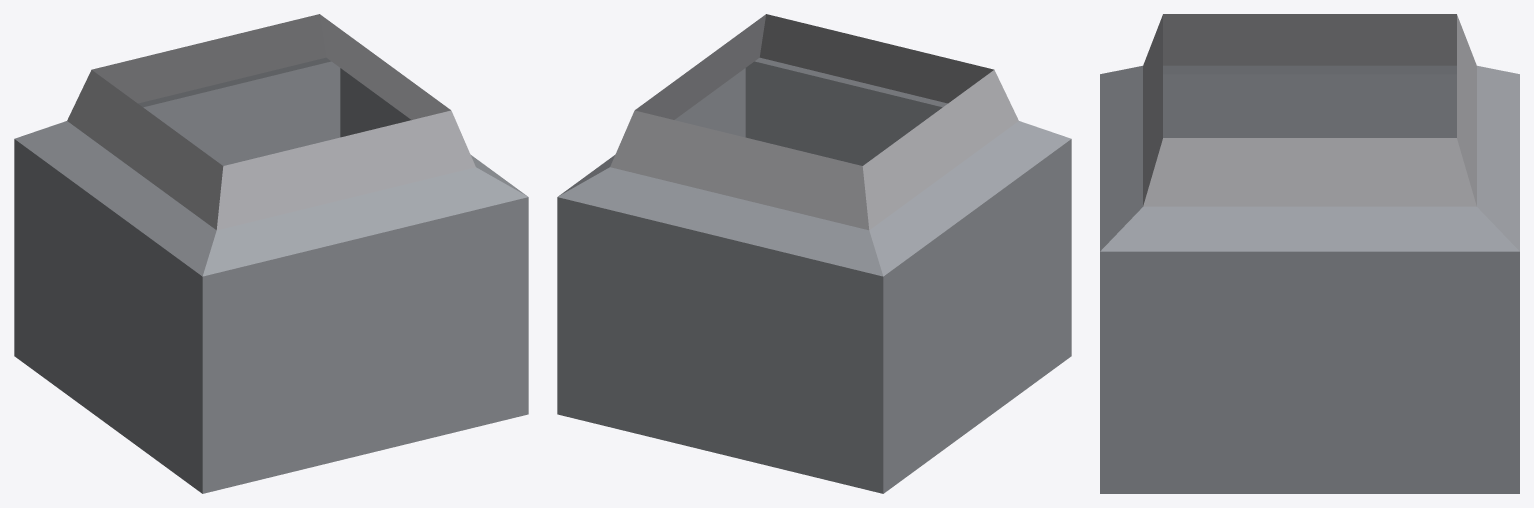
File: Museum_SquarePillarBase.fbx
3 renders of one model, left to right at view 1: azimuth 30°, elevation 25°; view 2: azimuth 150°, elevation 25°; view 3: azimuth 270°, elevation 25°, orthographic. The views are drawn at different scales.
Parts seen in each view (by area): view 1: Cube; view 2: Cube; view 3: Cube.
Boxes of the visible parts, x1,y1,x2,y2 form: Cube: (14,14,528,493); Cube: (557,14,1071,493); Cube: (1100,14,1519,493).
Size of the model in its own units: 0.6402 by 0.5539 by 0.6402.
